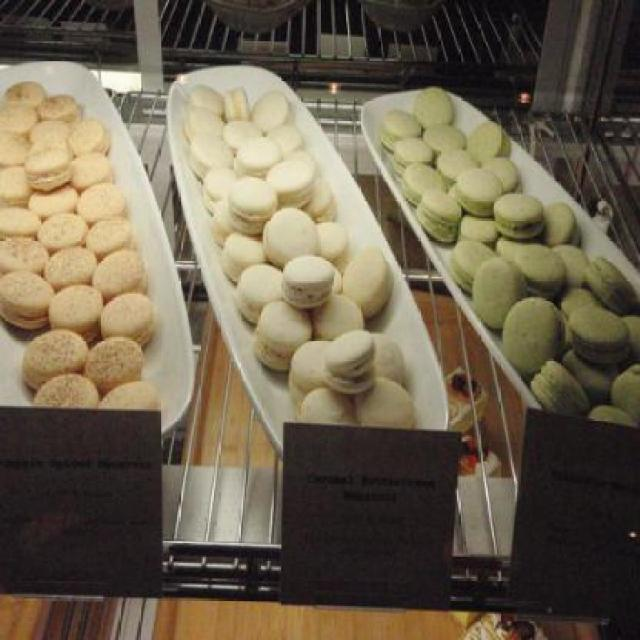Macaron: (175, 82, 418, 484), (378, 80, 639, 431), (1, 83, 158, 454)
